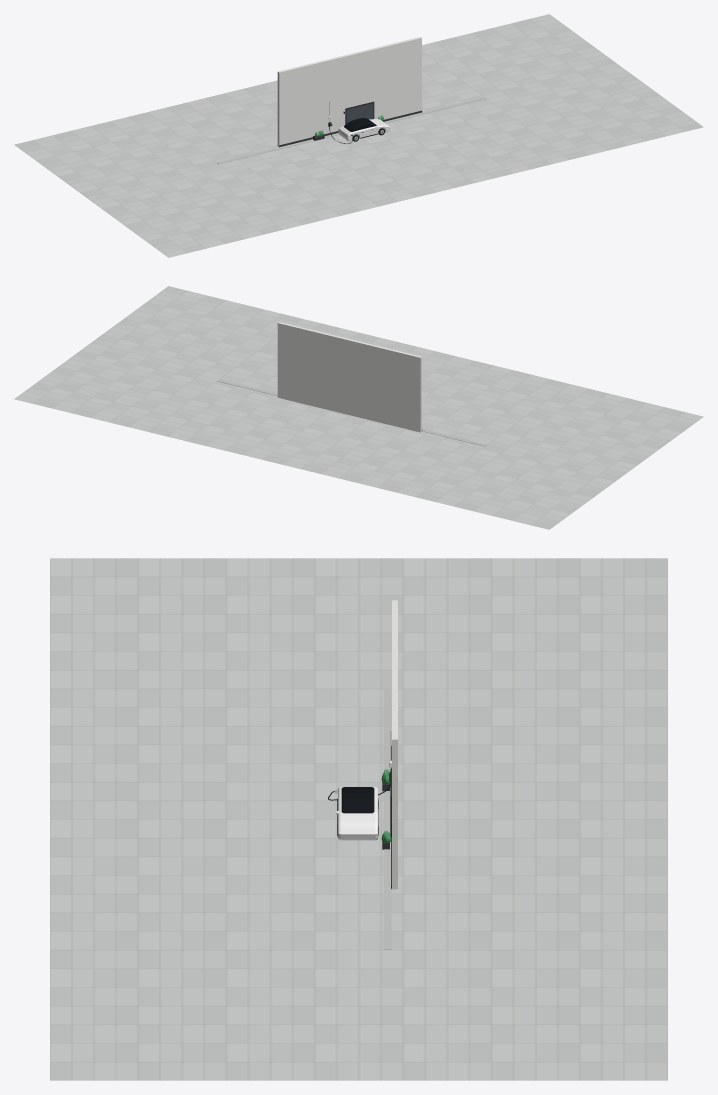
The model's file is 06_borne_recharge_voiture.glb.
3 renders of one model, top to bottom at view 1: azimuth 30°, elevation 25°; view 2: azimuth 150°, elevation 25°; view 3: azimuth 270°, elevation 25°, orthographic. The views are drawn at different scales.
Parts seen in each view (by area): view 1: Element_1_6, Element_1_8, Element_1_7, Voiture_carrosserie, Element_1_10; view 2: Element_1_6, Element_1_8; view 3: Element_1_6, Element_1_8, Element_1_7, Voiture_carrosserie, Voiture_vitres.
Part boxes in pixels (bbox=[...]): Element_1_6: bbox=[14, 14, 703, 257]; Element_1_8: bbox=[277, 36, 421, 146]; Element_1_7: bbox=[217, 97, 486, 163]; Voiture_carrosserie: bbox=[338, 119, 390, 141]; Element_1_10: bbox=[345, 101, 374, 124]; Element_1_6: bbox=[14, 286, 703, 529]; Element_1_8: bbox=[277, 322, 421, 432]; Element_1_6: bbox=[50, 558, 667, 1080]; Element_1_8: bbox=[392, 600, 397, 889]; Element_1_7: bbox=[384, 688, 391, 949]; Voiture_carrosserie: bbox=[338, 787, 377, 840]; Voiture_vitres: bbox=[341, 787, 374, 813].
Size of the model in its own units: 60 by 8.04 by 30.
62 materials, 5 textured.
